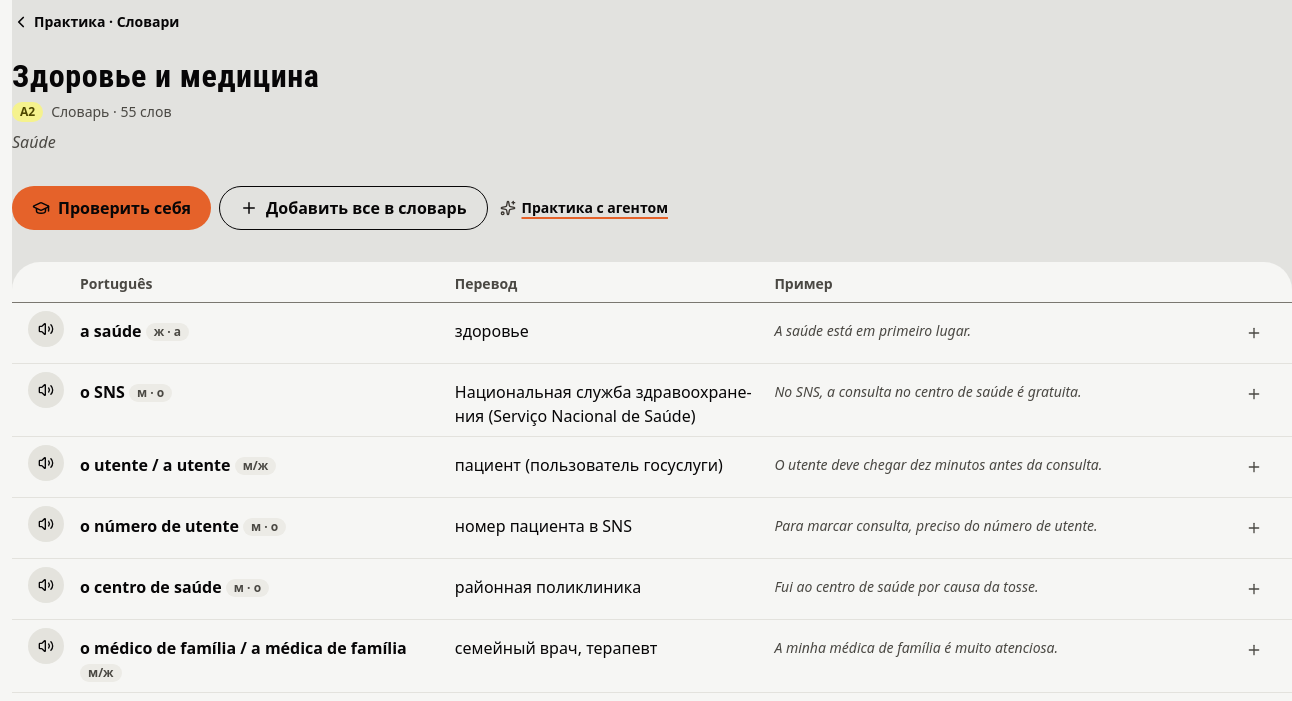
Test: VocabThemePage › header with level and count; word rows; add one and all to the dictionary
Expected: the heading "Здоровье и медицина" is shown, 12,57 -> 320,95
Click the button named "Добавить «a saúde» в словарь": (1254, 333) 1232,311 -> 1276,355
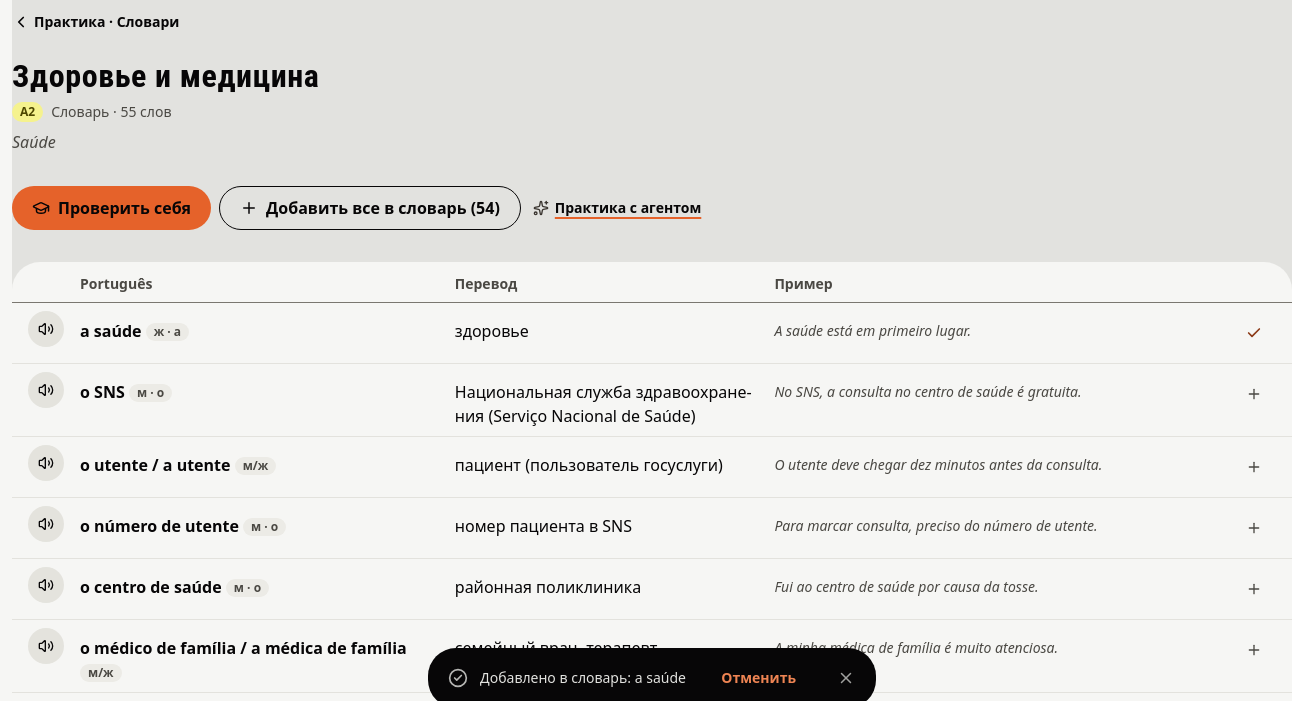
Click the button "Добавить все в словарь (54)": (370, 208) 219,186 -> 521,230
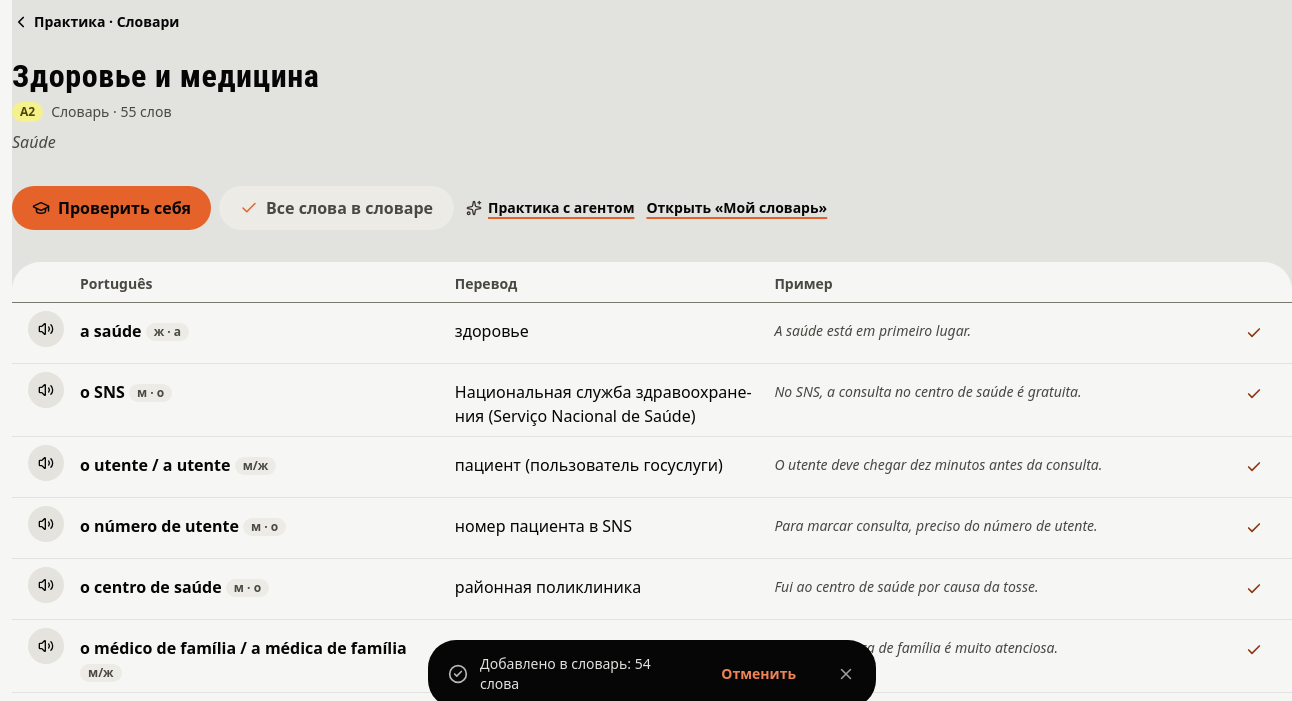
Expected: the button "Все слова в словаре" is disabled, 219,186 -> 454,230
